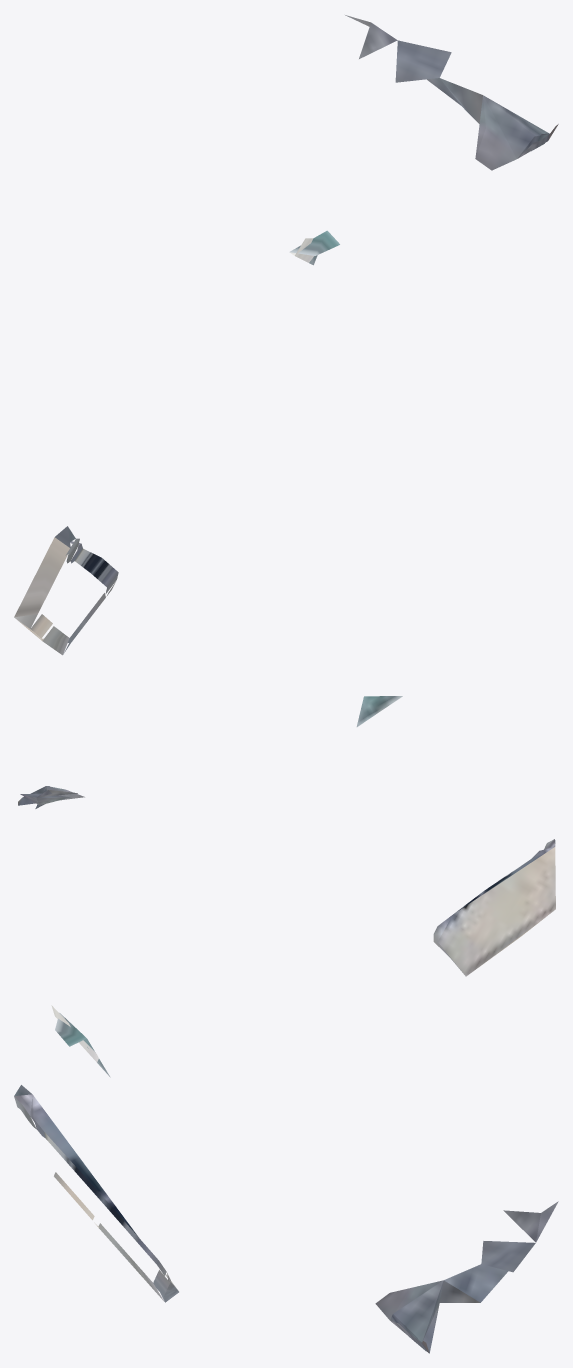
The picture shows the model from 3 angles, top to bottom: view 1: azimuth 30°, elevation 25°; view 2: azimuth 150°, elevation 25°; view 3: azimuth 270°, elevation 25°; orthographic projection. The views are drawn at different scales.
Size of the model in its own units: 77.43 by 41.7 by 54.76.
Materials: 1 (1 with a texture image).
